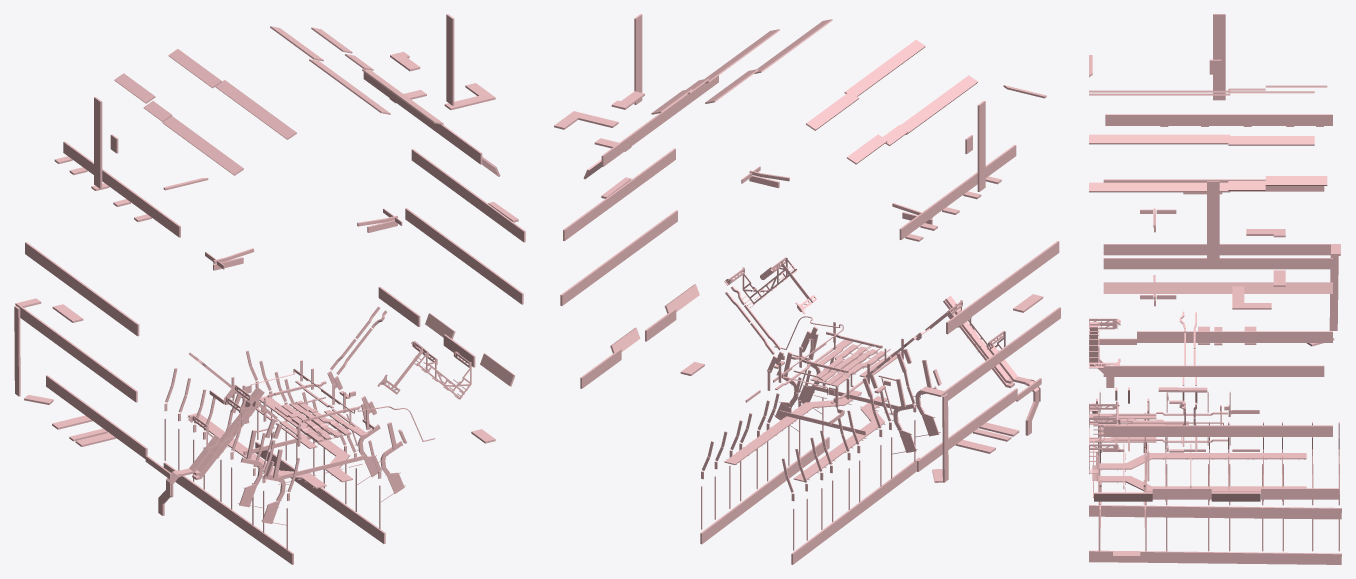
File: Serv-Muon-Cable Trays-cut1.glb
3 renders of one model, left to right at view 1: azimuth 30°, elevation 25°; view 2: azimuth 150°, elevation 25°; view 3: azimuth 270°, elevation 25°, orthographic.
Visible parts, largest first — view 1: Cabble Trays-cut1; view 2: Cabble Trays-cut1; view 3: Cabble Trays-cut1.
Boxes of the visible parts, x1,y1,x2,y2 form: Cabble Trays-cut1: [14, 14, 525, 564]; Cabble Trays-cut1: [554, 14, 1060, 564]; Cabble Trays-cut1: [1089, 14, 1341, 564].
Bounding box in the file's own units: 25.91 × 25.01 × 12.89.
